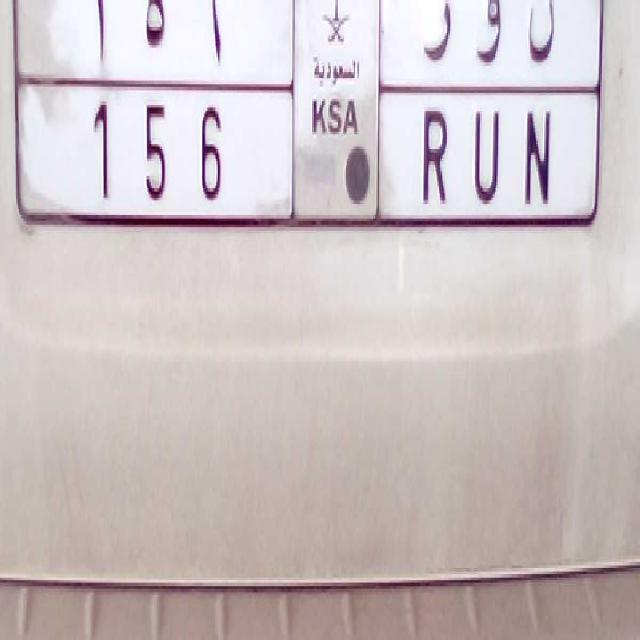license_plate: (63, 80, 568, 248)
